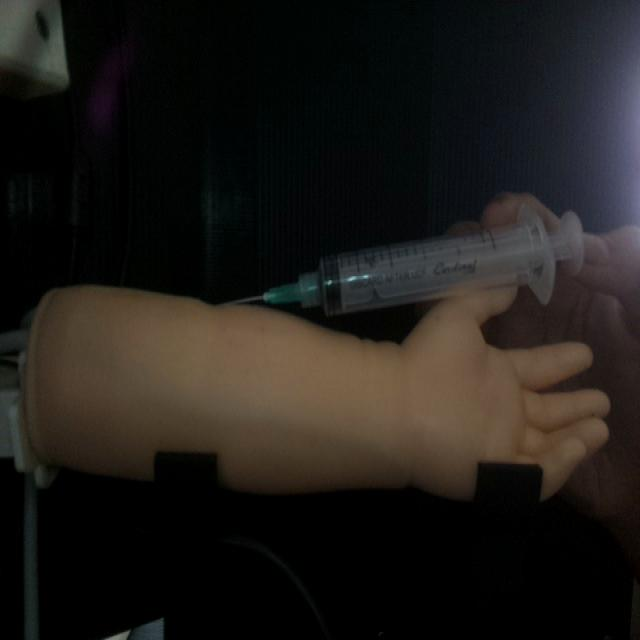Below 15 degrees: (223, 201, 586, 319)
